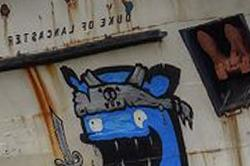rust: (25, 64, 64, 166), (199, 26, 249, 80), (63, 1, 83, 24)
